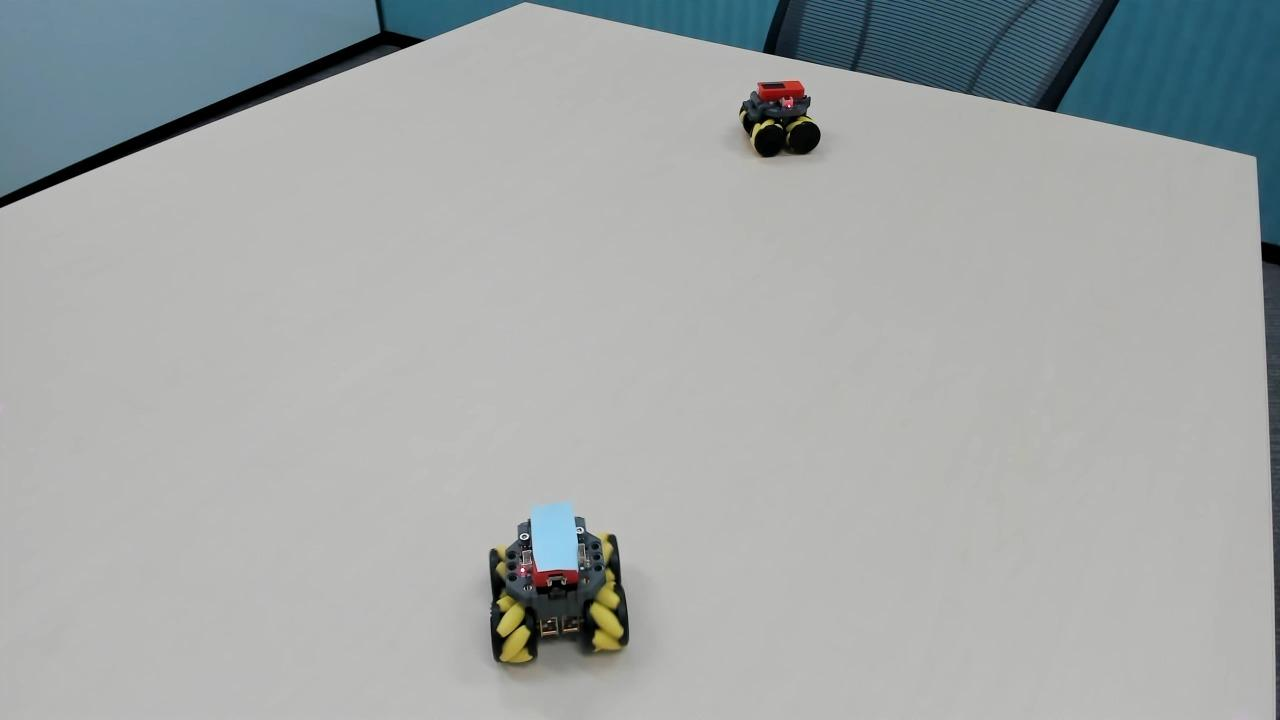B-Robot: (473, 494, 656, 690)
R-Robot: (731, 60, 826, 169)
